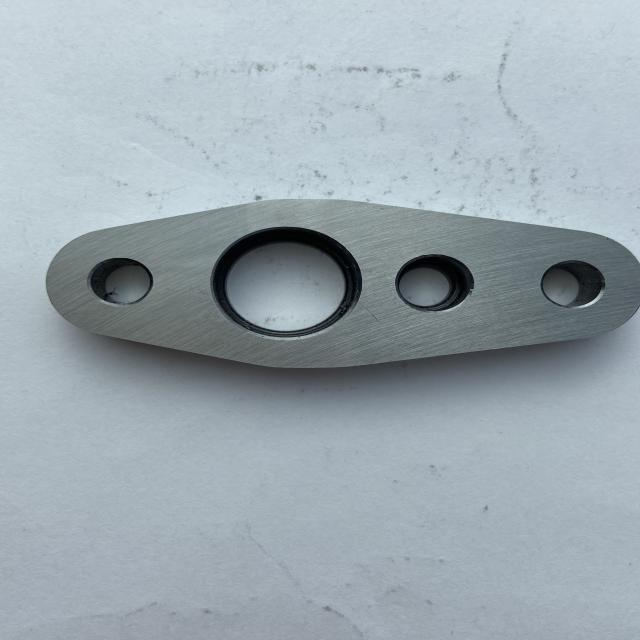lines: (359, 301, 378, 322)
